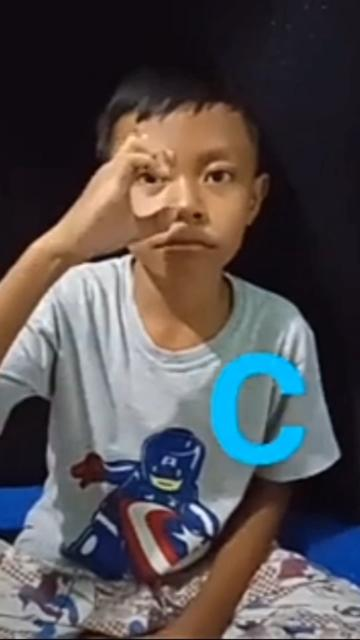C: (52, 130, 176, 274)
